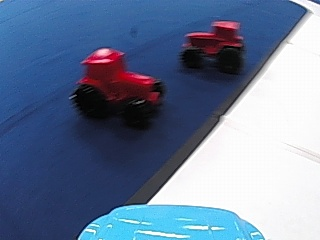Tracktor: (69, 46, 169, 125), (180, 16, 245, 73)
